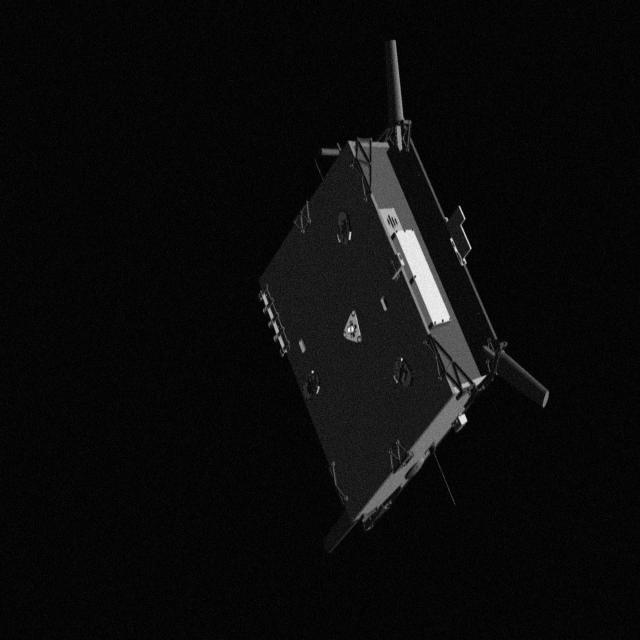medium_debris: (240, 36, 552, 560)
